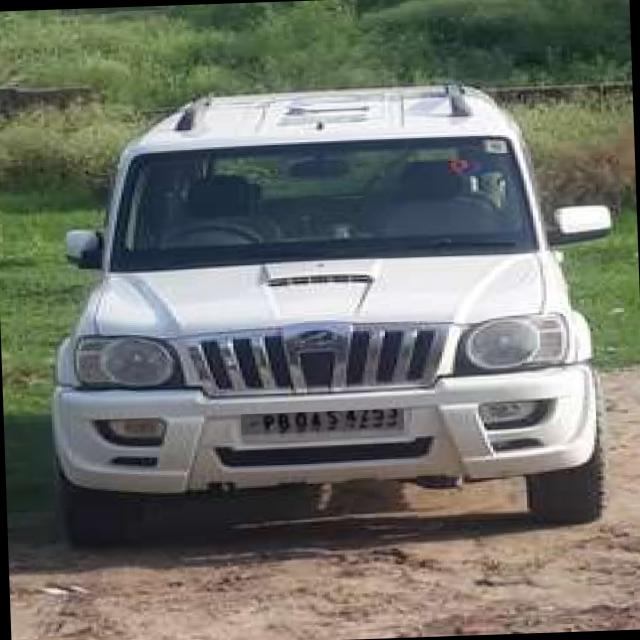Plate: (241, 410, 405, 440)
